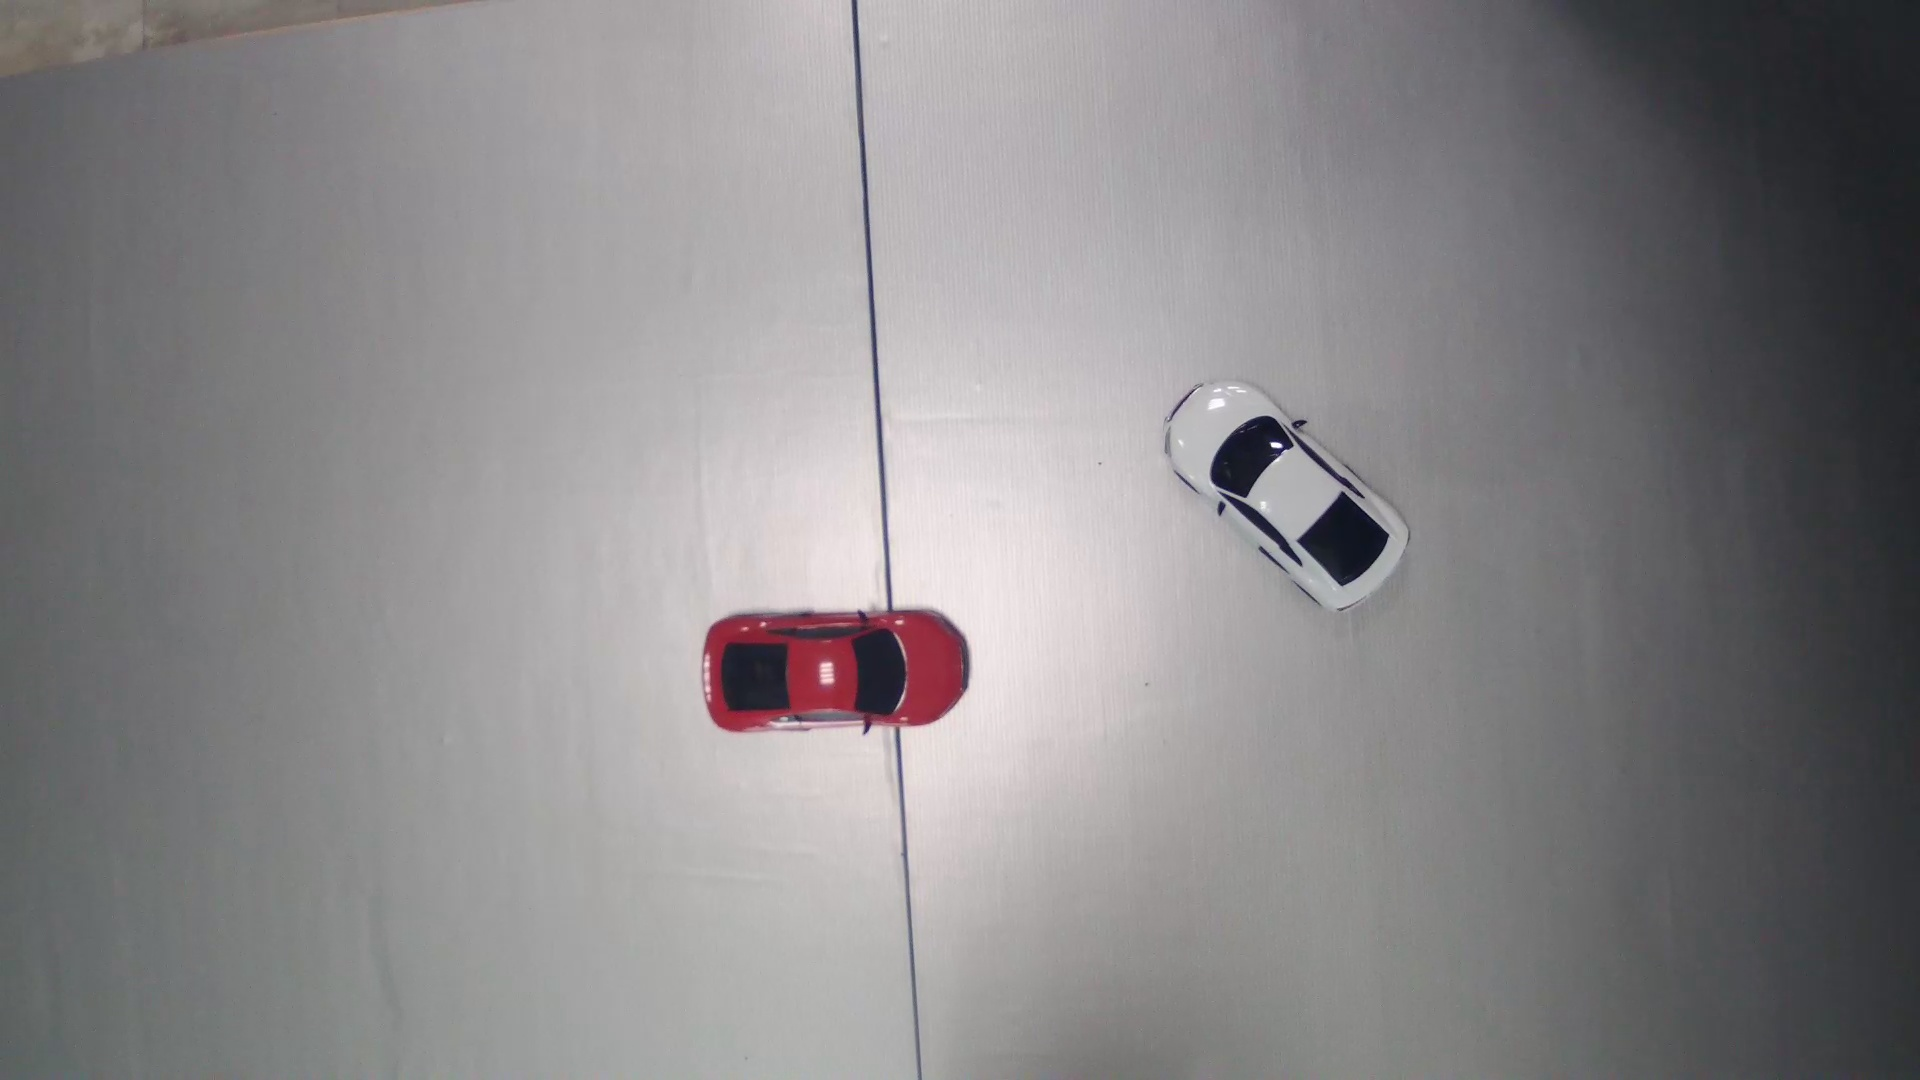remote_car: (1160, 371, 1420, 616), (698, 607, 973, 738)
